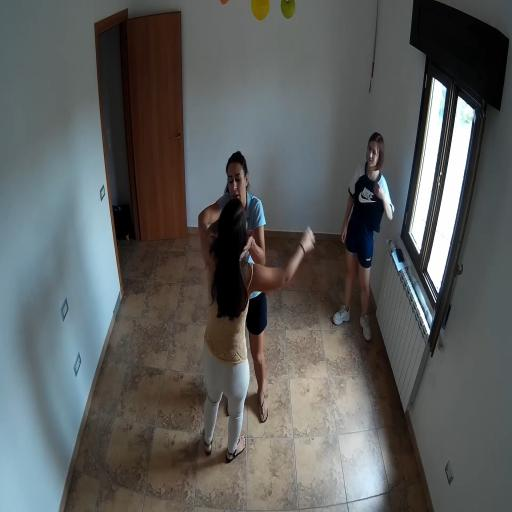nao-violencia: (176, 137, 324, 470)
